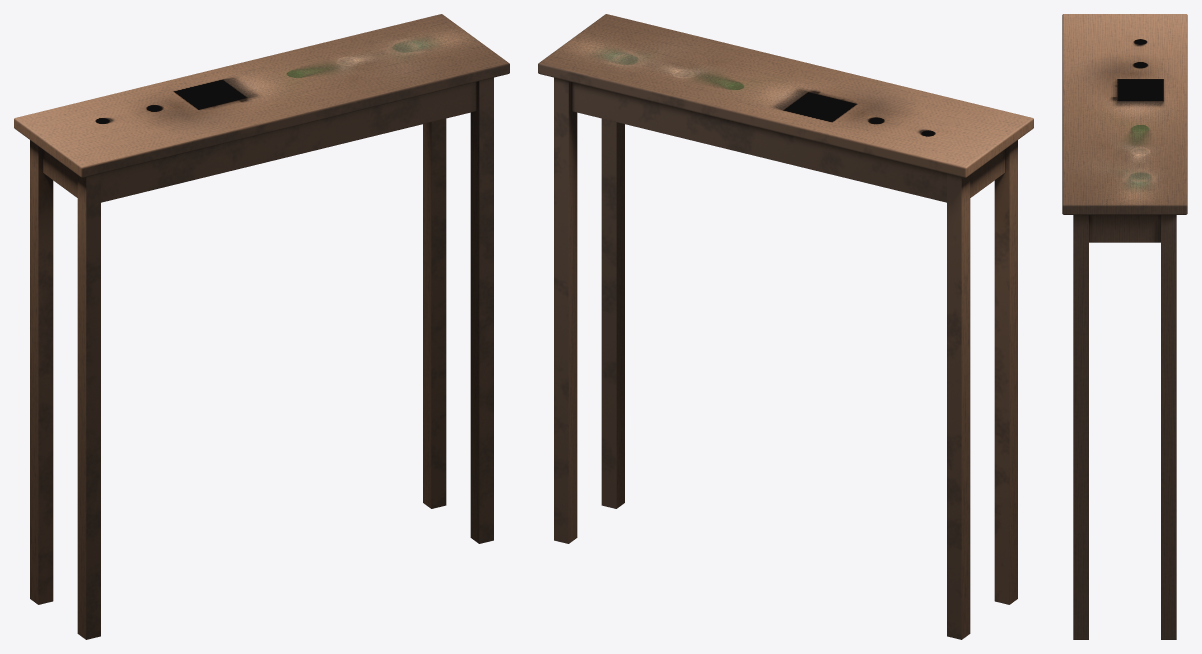
File: 603_hook.glb
3 views of the same model, side by side, from view 1: azimuth 30°, elevation 25°; view 2: azimuth 150°, elevation 25°; view 3: azimuth 270°, elevation 25° (orthographic). The views are drawn at different scales.
Visible parts, largest first — view 1: Table; view 2: Table; view 3: Table.
Boxes of the visible parts, <box> form: Table: <box>14,14,509,639</box>; Table: <box>538,14,1033,639</box>; Table: <box>1062,14,1187,639</box>.
Size of what is drawn, in the model's own units: 2.9 by 3.1 by 0.8.
1 material, 1 textured.
